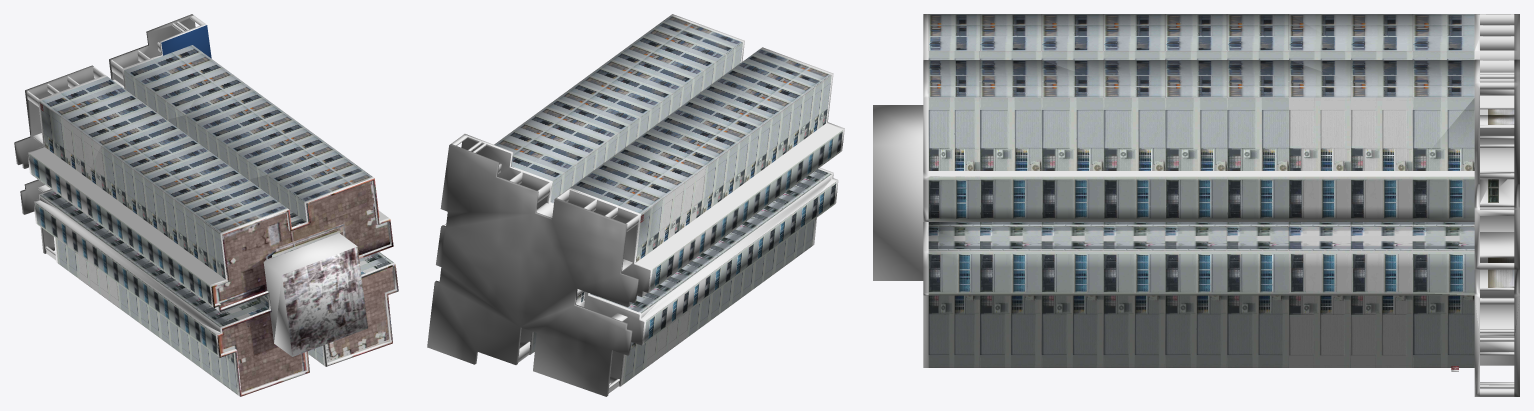
Rendered from amk_blk729_building.obj.
3 renders of one model, left to right at view 1: azimuth 30°, elevation 25°; view 2: azimuth 150°, elevation 25°; view 3: azimuth 270°, elevation 25°, orthographic. The views are drawn at different scales.
Parts seen in each view (by area): view 1: polygon.872; view 2: polygon.872; view 3: polygon.872.
Part boxes in pixels (box(x1,y1,x2,y2)): polygon.872: box(14, 14, 398, 396); polygon.872: box(427, 14, 844, 396); polygon.872: box(873, 14, 1519, 396).
Size of the model in its own units: 31.48 by 30.6 by 58.6.
1 material, 1 textured.
